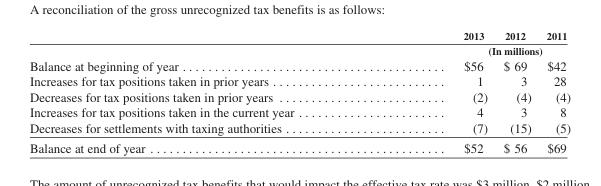table: (28, 28, 570, 155)
table column: (28, 28, 378, 155), (378, 28, 494, 155), (494, 28, 538, 155), (538, 28, 570, 155)
table column header: (28, 28, 570, 57)
table row: (28, 119, 570, 137), (28, 137, 570, 155), (28, 72, 570, 88), (28, 103, 570, 119), (28, 42, 570, 57), (28, 57, 570, 72), (28, 88, 570, 103), (28, 28, 570, 42)
table spanning cell: (378, 42, 570, 57)
